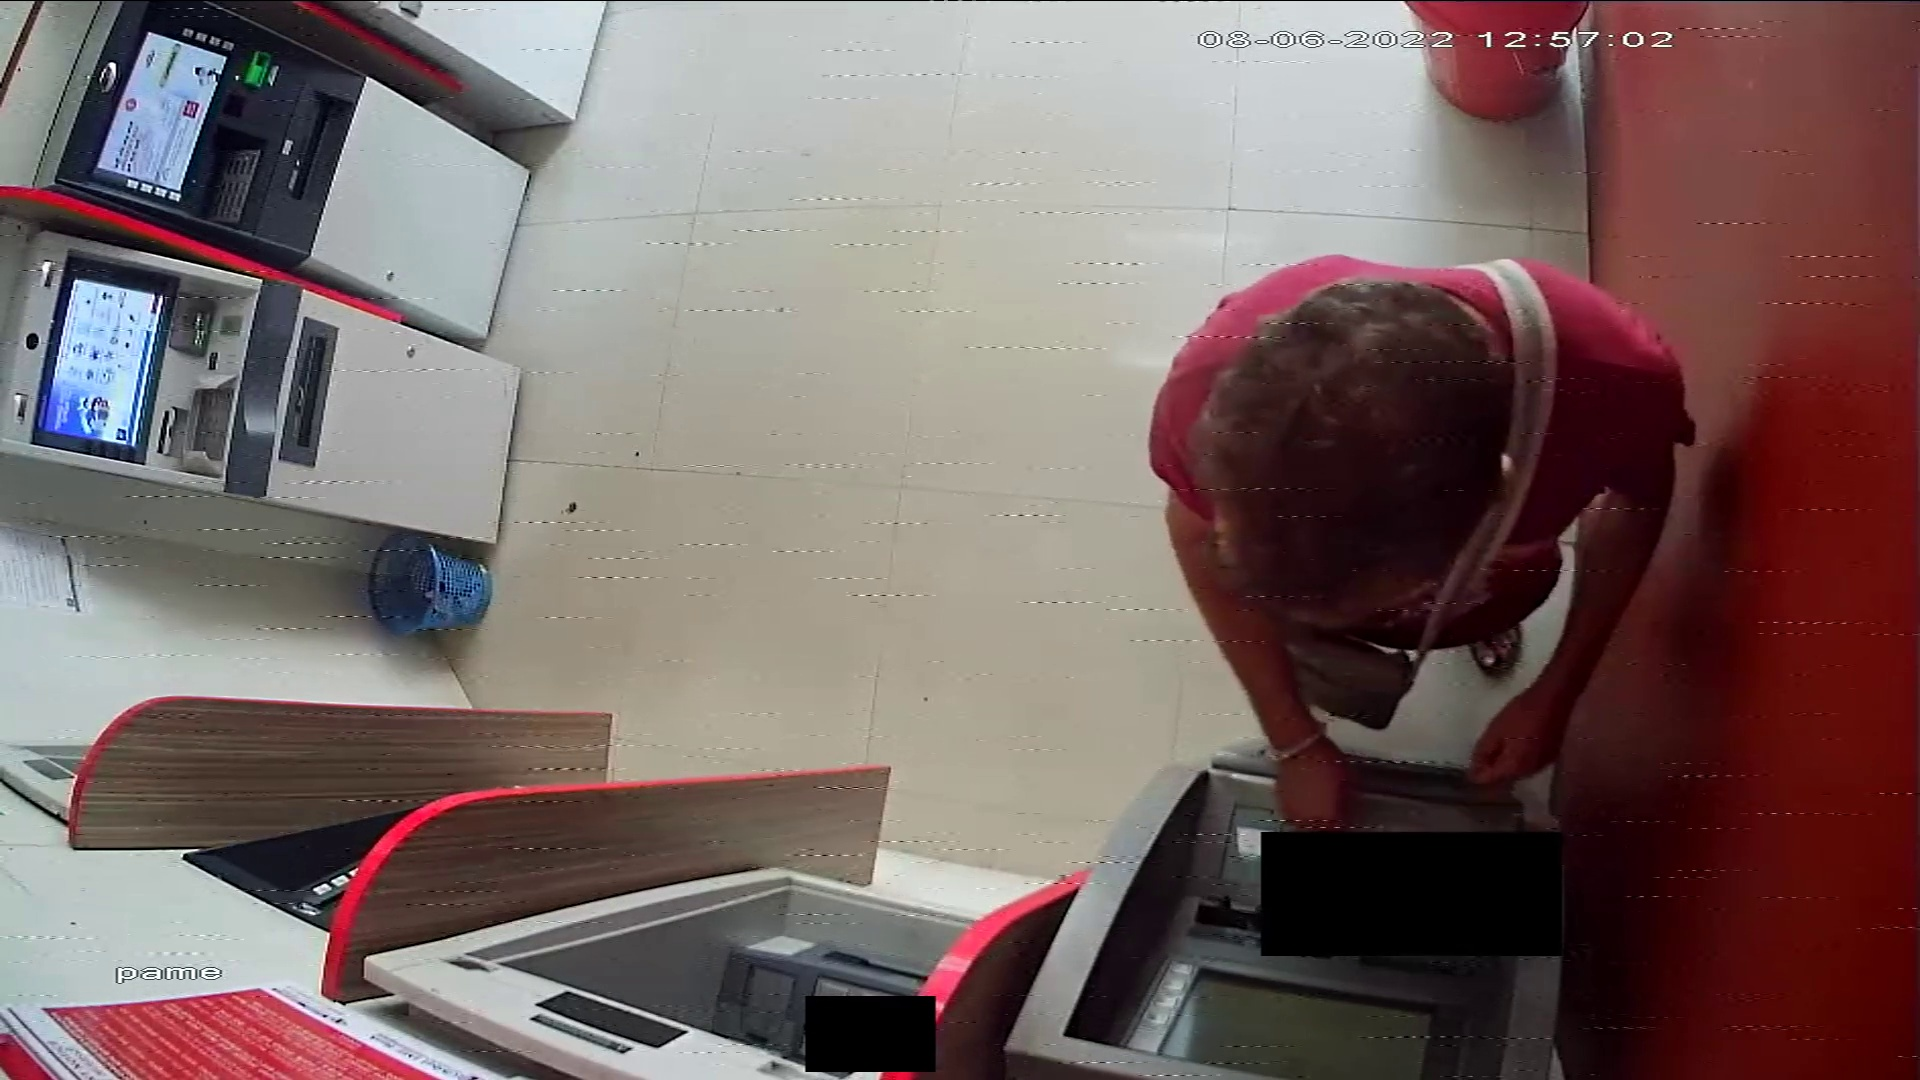person: (1141, 250, 1691, 840)
